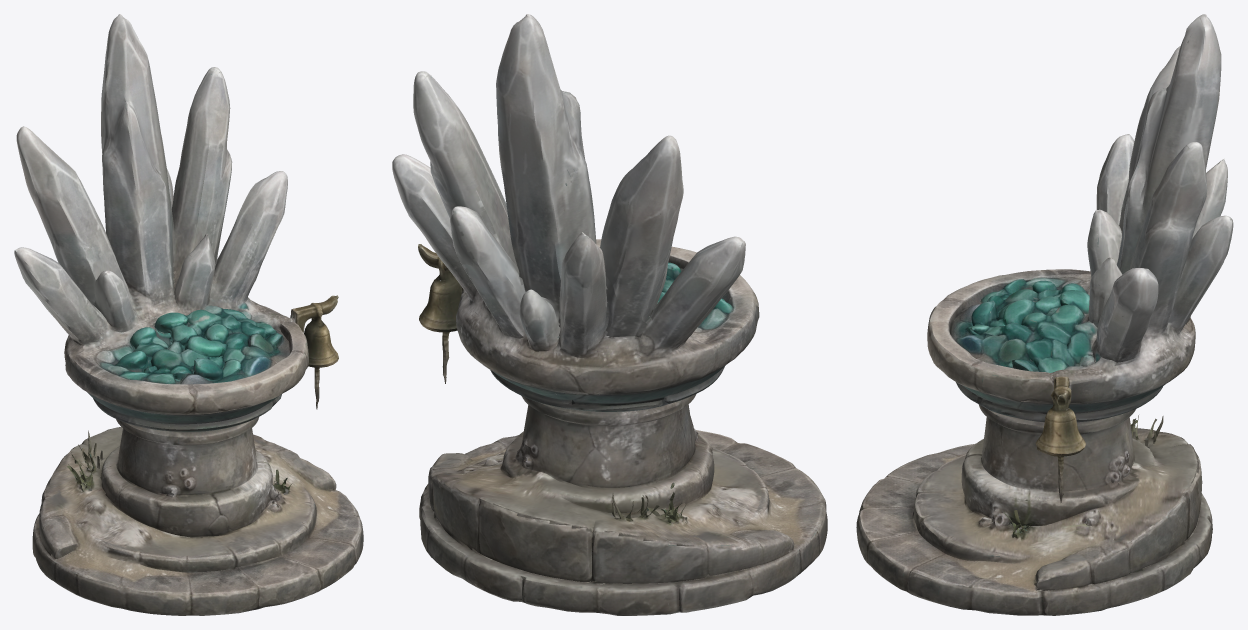
The model's file is salt_crown_tide_shrine.glb.
3 renders of one model, left to right at view 1: azimuth 30°, elevation 25°; view 2: azimuth 150°, elevation 25°; view 3: azimuth 270°, elevation 25°, orthographic. The views are drawn at different scales.
Visible parts, largest first — view 1: Mesh_0; view 2: Mesh_0; view 3: Mesh_0.
Part boxes in pixels (x1,y1,x2,y2): Mesh_0: (14, 14, 363, 615); Mesh_0: (392, 14, 827, 615); Mesh_0: (856, 14, 1233, 615).
Bounding box in the file's own units: 1.23 × 1.9 × 1.23.
1 material, 1 textured.
